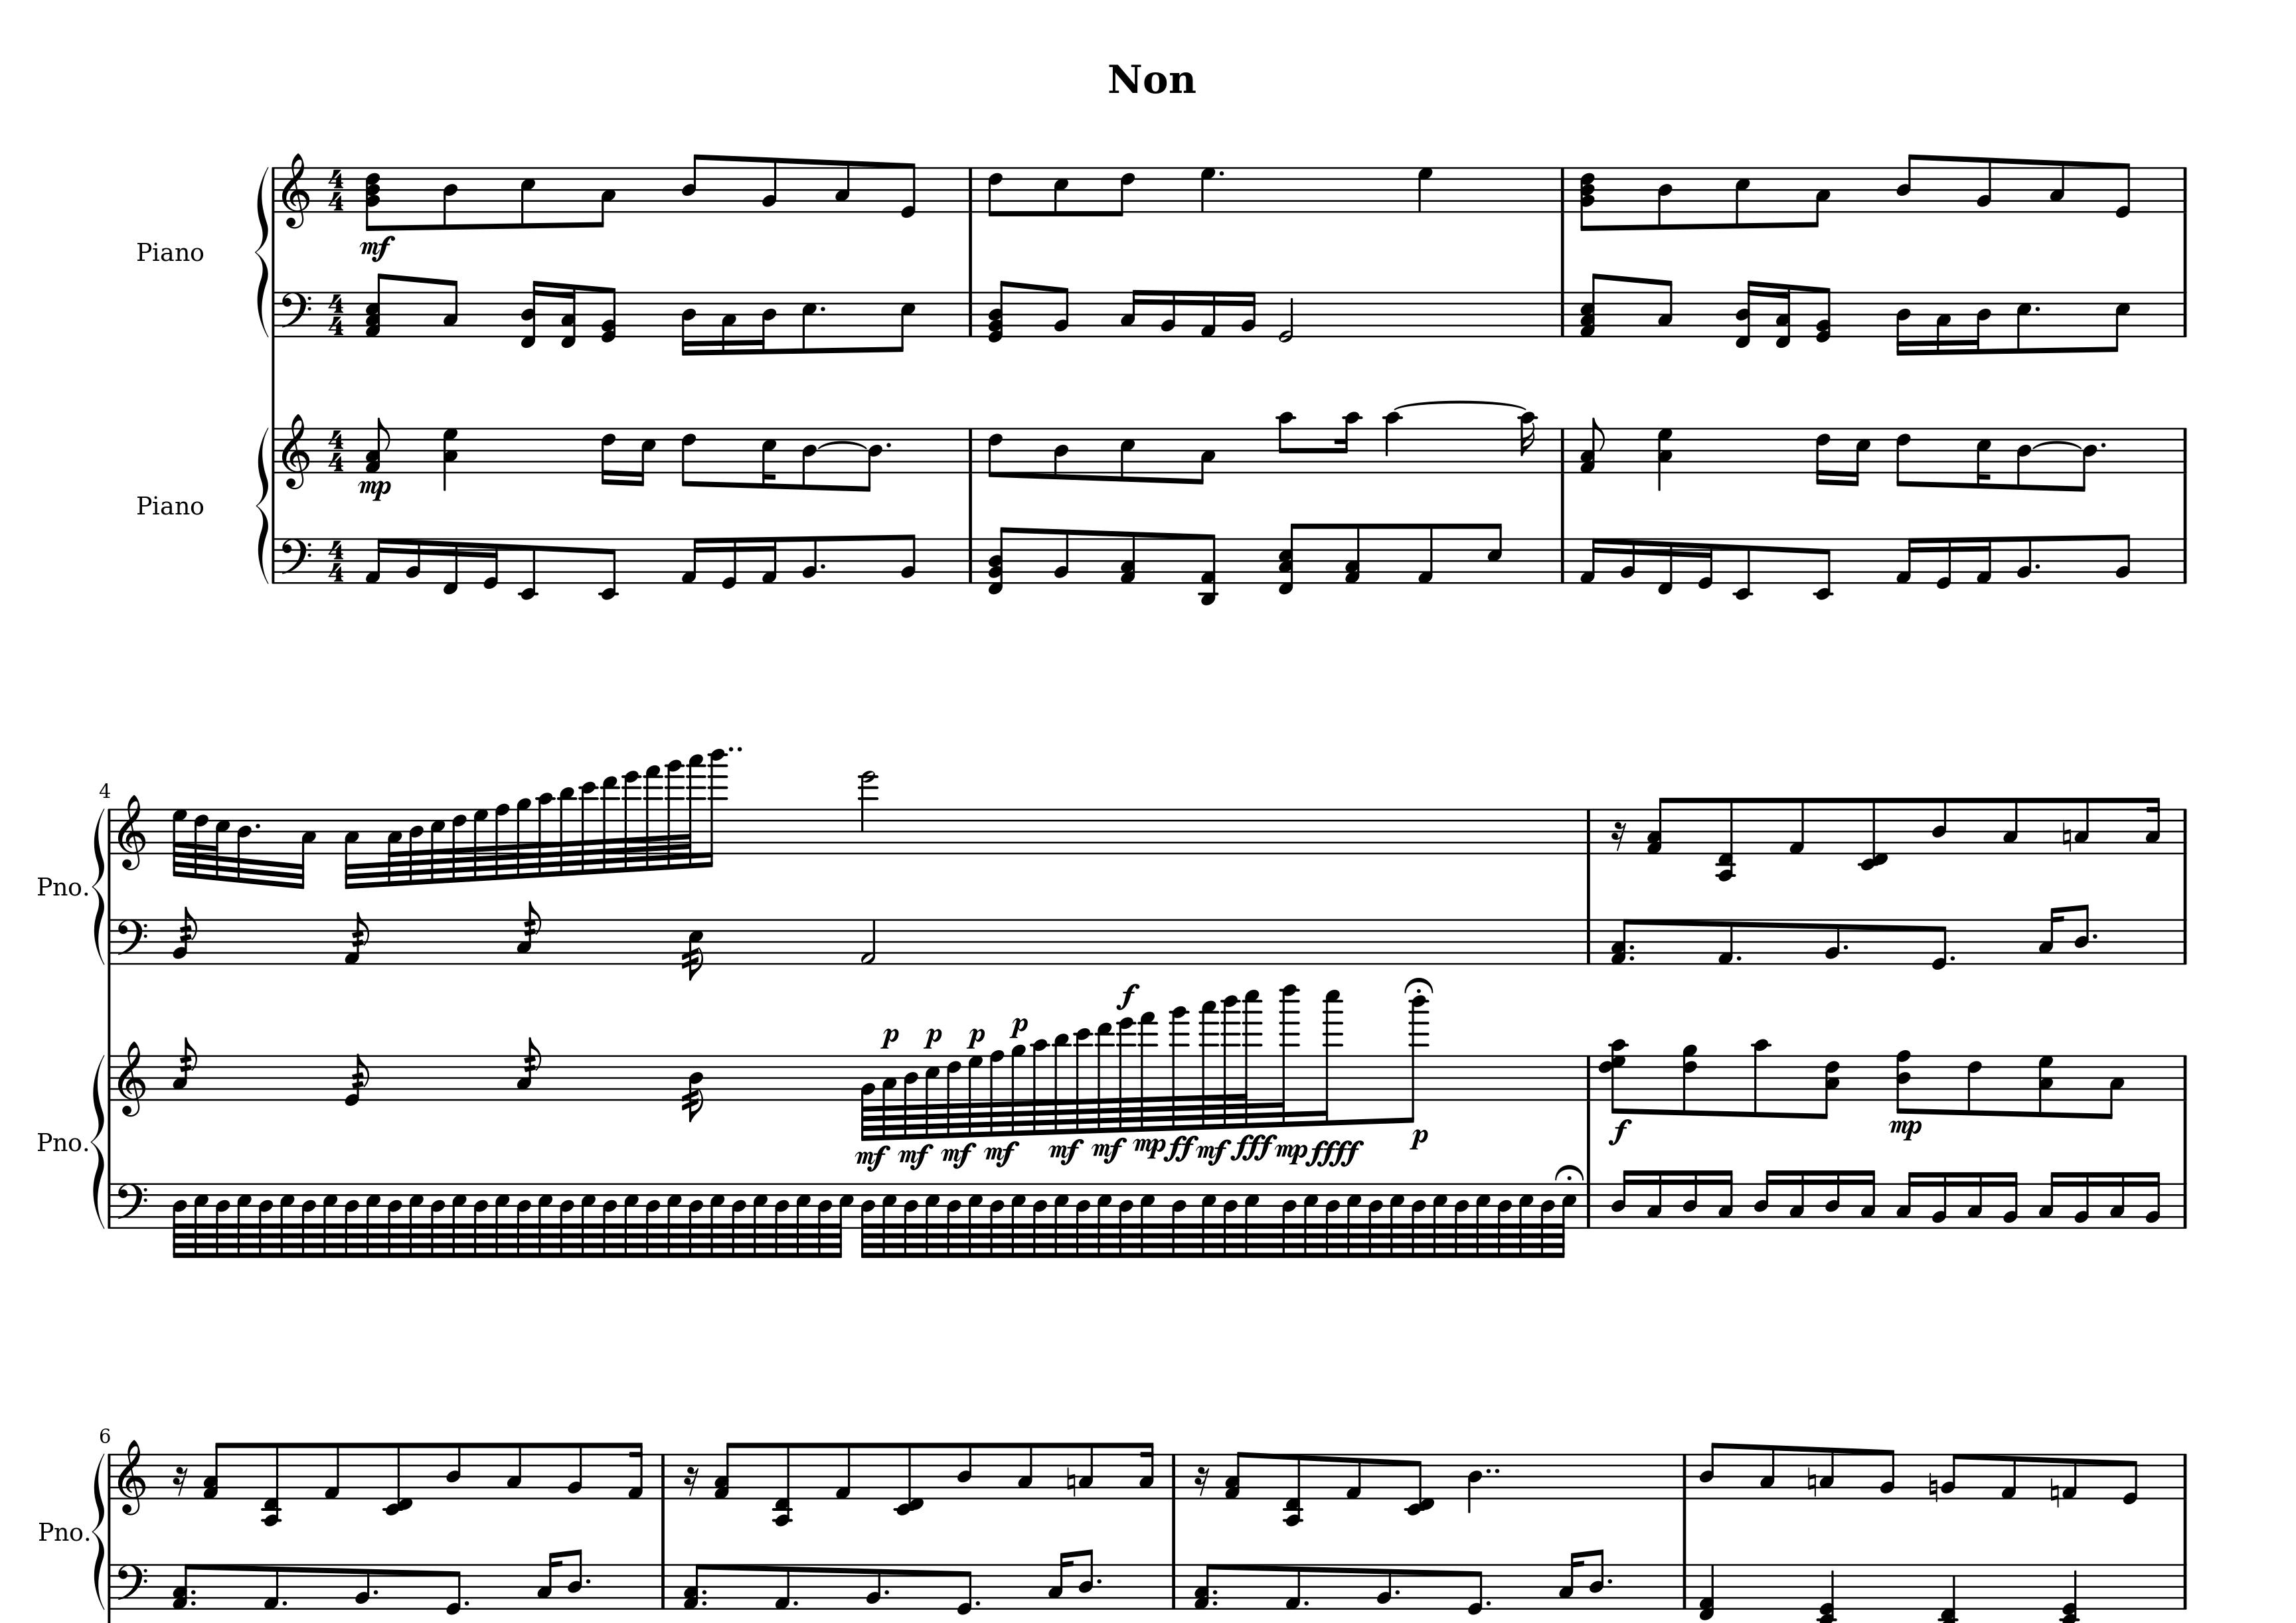16_-1: (441, 536, 460, 595), (1657, 536, 1674, 595)
16_-1_3: (559, 283, 578, 350), (1774, 283, 1792, 350)
16_-1_4: (522, 279, 546, 348), (1736, 279, 1758, 350)
16_0: (483, 536, 501, 590), (720, 536, 738, 590), (1697, 536, 1715, 590), (1936, 536, 1953, 590)
16_1: (680, 536, 703, 585), (1579, 536, 1602, 585), (1895, 536, 1918, 585), (364, 537, 386, 585), (627, 1440, 643, 1500), (1200, 288, 1217, 337), (761, 536, 778, 585), (1976, 536, 1994, 585)
16_10: (1333, 409, 1360, 474), (1518, 411, 1537, 474)
16_18: (704, 748, 729, 868)
16_19: (1323, 989, 1344, 1126)
16_2: (1931, 1170, 1950, 1230), (2073, 1170, 2092, 1230), (2143, 1170, 2162, 1230), (2003, 1170, 2020, 1230), (1159, 288, 1177, 337), (1620, 536, 1637, 585), (1240, 290, 1258, 337), (406, 536, 422, 585)
16_3: (2038, 905, 2064, 964), (536, 1549, 562, 1609), (1047, 1549, 1073, 1609), (1558, 1549, 1583, 1609), (1895, 1170, 1918, 1230), (2038, 1170, 2059, 1230), (1646, 1168, 1665, 1230), (720, 290, 738, 357), (1934, 290, 1952, 357), (1119, 288, 1142, 337), (1716, 1168, 1734, 1230), (1788, 1168, 1806, 1230), (1859, 1168, 1876, 1230), (1966, 1170, 1983, 1230), (2108, 1170, 2126, 1230), (2145, 796, 2162, 854), (1138, 1440, 1154, 1498)
16_4: (757, 290, 778, 357), (1753, 1168, 1776, 1230), (1973, 290, 1994, 355), (1611, 1168, 1632, 1230), (680, 290, 697, 357), (1895, 292, 1913, 357), (1681, 1168, 1699, 1230), (1823, 1168, 1841, 1230)
16_5: (636, 427, 657, 487), (1850, 427, 1871, 487), (1975, 427, 1992, 490), (761, 427, 776, 490)
16_6: (601, 427, 617, 487), (1815, 427, 1830, 487)
2_0: (1277, 288, 1295, 343)
2_1: (859, 919, 877, 968)
32_20: (1279, 982, 1300, 1128)
32_3: (297, 806, 318, 891), (343, 806, 360, 891)
32_4: (237, 806, 253, 887)
4: (327, 537, 348, 560), (327, 560, 348, 581), (327, 167, 346, 190), (327, 292, 346, 314), (327, 427, 346, 450), (327, 190, 346, 211), (327, 314, 346, 335), (327, 450, 346, 471)
4_-1_1: (1697, 1562, 1716, 1619)
4_10: (1383, 411, 1402, 474)
4_14: (857, 768, 878, 854)
4_3_7: (1657, 427, 1676, 492), (443, 427, 458, 492)
4_4: (1467, 1453, 1483, 1514)
4_7: (1416, 165, 1433, 214), (1200, 165, 1217, 213)
6: (98, 1425, 111, 1444)
64_10: (1028, 1038, 1051, 1135), (536, 790, 555, 878)
64_11: (1051, 1033, 1072, 1135), (557, 785, 576, 876)
64_12: (1072, 1028, 1093, 1133), (578, 780, 599, 875)
64_13: (1094, 1022, 1116, 1135), (599, 775, 620, 875)
64_14: (1116, 1015, 1137, 1133), (620, 769, 641, 873)
64_15: (1137, 1012, 1159, 1133), (641, 764, 662, 871)
64_16: (1168, 1005, 1191, 1131), (662, 759, 685, 869)
64_17: (1198, 1001, 1221, 1129), (685, 754, 706, 868)
64_18: (1221, 994, 1240, 1131)
64_19: (1242, 987, 1263, 1129)
64_2: (861, 1054, 877, 1142)
64_3: (882, 1054, 898, 1142), (386, 808, 402, 887)
64_4: (1202, 1184, 1238, 1256), (1170, 1180, 1189, 1259), (729, 1180, 747, 1259), (773, 1180, 791, 1259), (1117, 1180, 1135, 1259), (1221, 1180, 1238, 1259), (1281, 1180, 1298, 1259), (687, 1180, 704, 1258), (859, 1180, 877, 1258), (901, 1180, 919, 1258), (945, 1180, 963, 1258), (987, 1180, 1005, 1258), (1323, 1182, 1340, 1259), (1367, 1182, 1384, 1259), (1409, 1182, 1426, 1259), (1453, 1182, 1470, 1259), (903, 1056, 919, 1140), (515, 1182, 532, 1258), (601, 1182, 618, 1258), (1031, 1182, 1049, 1258), (408, 808, 423, 887), (172, 1180, 188, 1258), (817, 1180, 833, 1258), (1075, 1180, 1091, 1258), (1497, 1182, 1513, 1259), (1539, 1182, 1555, 1259), (214, 1182, 230, 1258), (300, 1182, 316, 1258), (343, 1182, 358, 1258), (386, 1182, 402, 1258), (430, 1182, 446, 1258), (473, 1182, 488, 1258), (559, 1182, 574, 1258), (645, 1182, 661, 1258), (258, 1182, 272, 1258)
64_5: (833, 1180, 854, 1259), (1556, 1180, 1578, 1259), (1200, 1180, 1219, 1259), (1242, 1180, 1261, 1259), (1344, 1180, 1363, 1259), (494, 1180, 511, 1259), (666, 1180, 683, 1259), (752, 1180, 769, 1259), (794, 1180, 812, 1259), (880, 1180, 898, 1259), (924, 1180, 942, 1259), (966, 1180, 984, 1259), (1010, 1180, 1028, 1259), (1052, 1180, 1070, 1259), (1096, 1180, 1114, 1259), (1138, 1180, 1156, 1259), (1302, 1180, 1319, 1259), (1388, 1180, 1405, 1259), (1432, 1180, 1449, 1259), (1474, 1180, 1491, 1259), (1518, 1180, 1535, 1259), (924, 1054, 940, 1140), (408, 1182, 425, 1259), (213, 808, 230, 882), (193, 1180, 209, 1259), (279, 1180, 295, 1259), (624, 1180, 639, 1259), (710, 1180, 726, 1259), (430, 806, 446, 884), (321, 1182, 337, 1259), (365, 1182, 381, 1259), (451, 1182, 467, 1259), (538, 1182, 553, 1259), (580, 1182, 596, 1259), (237, 1180, 251, 1259)
64_6: (945, 1054, 961, 1138), (193, 808, 209, 880), (451, 808, 466, 882)
64_7: (968, 1056, 984, 1138), (473, 808, 488, 882), (172, 808, 188, 878)
64_8: (989, 1049, 1007, 1138), (495, 803, 509, 880)
64_9: (1010, 1043, 1028, 1135), (515, 796, 532, 880)
8_-2: (599, 536, 620, 601), (1732, 536, 1753, 601), (1813, 536, 1834, 601), (518, 536, 538, 601)
8_-2_-1: (891, 1440, 926, 1516), (1857, 796, 1890, 871), (381, 1442, 415, 1516), (1404, 1451, 1435, 1514)
8_-3_1: (1196, 532, 1219, 606)
8_-4_-1: (1715, 796, 1739, 882), (260, 1442, 283, 1526), (773, 1442, 794, 1528), (1282, 1453, 1305, 1526)
8_0: (2112, 160, 2133, 220), (898, 160, 917, 218), (1931, 917, 1950, 970), (2120, 1451, 2138, 1505), (956, 1562, 973, 1616), (1467, 1562, 1484, 1616), (446, 1562, 464, 1614)
8_1: (1416, 522, 1433, 585), (323, 1440, 341, 1500), (1788, 796, 1806, 854), (834, 1440, 852, 1498), (1716, 917, 1736, 964), (1999, 1453, 2018, 1500), (262, 1562, 281, 1609), (773, 1562, 792, 1609), (1284, 1562, 1303, 1609), (1346, 1453, 1363, 1500), (2062, 1451, 2078, 1500)
8_10: (1751, 1036, 1774, 1117), (1275, 411, 1296, 474)
8_18: (1405, 994, 1432, 1122)
8_1_3: (202, 1440, 230, 1500), (365, 416, 392, 474), (1579, 416, 1606, 474), (713, 1442, 740, 1500), (1646, 796, 1671, 855), (169, 1563, 199, 1611), (682, 1563, 706, 1611), (1344, 522, 1361, 585), (1611, 919, 1634, 966), (1193, 1562, 1216, 1609), (1224, 1451, 1245, 1500), (601, 285, 618, 343), (1815, 286, 1832, 343), (1119, 530, 1137, 585)
8_2: (1939, 1451, 1964, 1500), (761, 155, 780, 214), (2112, 532, 2133, 585), (1976, 156, 1994, 214), (567, 1440, 583, 1500), (899, 532, 917, 585), (1054, 527, 1070, 585), (353, 1562, 372, 1609), (2017, 534, 2034, 585), (1825, 917, 1843, 966), (864, 1562, 882, 1611), (1054, 285, 1070, 337), (1880, 1447, 1895, 1500), (803, 534, 819, 585), (1377, 1562, 1393, 1611)
8_3: (2101, 1052, 2126, 1121), (594, 163, 618, 228), (1809, 163, 1832, 228), (1193, 425, 1216, 485), (504, 1440, 523, 1500), (1077, 1440, 1096, 1500), (2073, 796, 2092, 854), (2048, 158, 2068, 214), (1657, 278, 1674, 337), (1017, 1440, 1035, 1500), (2003, 796, 2020, 854), (834, 158, 852, 214), (1758, 1444, 1776, 1500), (443, 278, 458, 337), (1818, 1446, 1836, 1498)
8_3_6: (1820, 1054, 1841, 1121)
8_3_7: (2038, 1054, 2057, 1119)
8_4: (680, 151, 704, 214), (859, 427, 882, 492), (1895, 151, 1918, 214), (2076, 425, 2097, 494), (1657, 165, 1676, 232), (1699, 1440, 1720, 1500), (2015, 427, 2032, 492), (1931, 796, 1950, 854), (443, 165, 458, 232), (444, 1440, 462, 1500), (956, 1440, 973, 1500), (801, 427, 817, 492), (2075, 903, 2090, 964), (567, 1547, 583, 1609), (1079, 1547, 1094, 1609), (1590, 1547, 1606, 1609), (1052, 427, 1070, 480)
8_4_8: (1895, 1049, 1913, 1115)
8_5: (892, 290, 917, 353), (2015, 292, 2040, 355), (2108, 290, 2133, 353), (1734, 165, 1751, 230), (801, 290, 819, 355), (1486, 520, 1504, 585), (520, 165, 536, 230), (1052, 165, 1070, 218), (1119, 427, 1135, 483)
8_6: (1895, 425, 1915, 488), (1112, 165, 1135, 218), (680, 427, 699, 488), (1966, 1052, 1983, 1117), (987, 165, 1003, 218), (987, 425, 1003, 478)
8_6_9: (1681, 1043, 1700, 1117)
8_th: (1599, 1038, 1630, 1117), (1579, 272, 1604, 339), (987, 527, 1012, 592), (1279, 522, 1300, 594), (365, 272, 388, 337), (987, 279, 1010, 343), (364, 167, 381, 232), (1578, 167, 1595, 232)
Brace: (253, 162, 271, 341), (90, 1054, 105, 1230), (255, 427, 271, 583), (91, 1449, 105, 1612), (91, 808, 105, 964)
Double_dot: (727, 745, 743, 754), (1484, 1465, 1500, 1474)
Fclef: (116, 1562, 151, 1609), (279, 290, 313, 339), (279, 536, 313, 585), (116, 917, 149, 964), (116, 1182, 148, 1230)
Fermata_above: (1404, 973, 1435, 996), (1553, 1161, 1585, 1182)
Gclef: (281, 411, 311, 490), (281, 151, 311, 228), (118, 1439, 148, 1516), (118, 792, 146, 869), (118, 1040, 146, 1117)
Natural: (2061, 820, 2073, 854), (1065, 1465, 1077, 1498), (1927, 1470, 1939, 1504), (2048, 1474, 2061, 1507), (1806, 1465, 1816, 1498)
Pno: (134, 239, 207, 263), (134, 494, 204, 516), (39, 1519, 83, 1546), (35, 1129, 81, 1154), (35, 875, 83, 898)
Rests16: (682, 1465, 701, 1497), (170, 1463, 188, 1497), (1193, 1465, 1210, 1497), (1611, 819, 1627, 852)
Single_barline: (172, 905, 199, 963), (2177, 165, 2192, 213), (655, 1562, 671, 1609), (1556, 427, 1572, 472), (1555, 537, 1570, 583), (1581, 808, 1597, 854), (1581, 919, 1597, 964), (2177, 919, 2192, 964), (2177, 1182, 2192, 1228), (655, 1453, 671, 1498), (1581, 1056, 1597, 1100), (2177, 1056, 2192, 1100), (2177, 537, 2191, 583), (2177, 808, 2191, 854), (104, 808, 118, 854), (1166, 1453, 1180, 1498), (2177, 1453, 2191, 1498), (1166, 1563, 1180, 1609), (1678, 1563, 1692, 1609), (2177, 1563, 2191, 1609), (2177, 292, 2191, 335), (2177, 427, 2191, 471), (1678, 1454, 1692, 1498), (269, 165, 281, 213), (269, 292, 281, 337), (269, 427, 281, 472), (269, 537, 281, 583), (104, 919, 116, 964), (104, 1054, 116, 1100), (104, 1453, 116, 1498), (1583, 1182, 1595, 1226), (105, 1182, 116, 1228), (105, 1563, 116, 1607), (253, 820, 262, 831)
Slur: (1390, 399, 1528, 411), (963, 165, 982, 213), (963, 537, 980, 583), (963, 427, 980, 471), (963, 292, 978, 337), (1556, 167, 1570, 213), (819, 439, 864, 448)
TimeSig: (327, 292, 348, 339), (327, 167, 346, 213), (327, 427, 346, 472), (327, 537, 346, 583)
dot: (1841, 940, 1852, 954), (1734, 952, 1744, 964), (583, 1574, 594, 1586), (882, 1586, 892, 1598), (791, 1597, 801, 1609), (1483, 1597, 1493, 1609), (1393, 1584, 1402, 1598), (1627, 941, 1637, 952), (1627, 952, 1637, 963), (1094, 1576, 1105, 1586), (371, 1586, 381, 1597), (699, 1586, 710, 1597), (1948, 952, 1957, 964), (462, 1597, 471, 1609), (973, 1597, 982, 1609), (1302, 1597, 1310, 1609), (1216, 169, 1226, 177), (1210, 1597, 1219, 1607), (819, 304, 827, 313), (884, 439, 892, 448), (819, 562, 827, 571), (2090, 931, 2099, 940), (1606, 1576, 1614, 1584), (1210, 1588, 1219, 1597), (699, 1598, 708, 1607), (281, 1597, 288, 1607), (2099, 441, 2108, 448), (190, 1588, 197, 1597), (190, 1598, 197, 1605)
f: (1606, 1117, 1635, 1147), (1114, 980, 1142, 1012)
ff: (1165, 1131, 1196, 1163)
fff: (1230, 1129, 1277, 1163)
ffff: (1307, 1136, 1365, 1170)
mf: (852, 1142, 891, 1173), (982, 1138, 1021, 1170), (1091, 1135, 1126, 1166), (896, 1142, 933, 1172), (940, 1140, 977, 1170), (1047, 1136, 1084, 1166), (360, 234, 395, 263), (1196, 1136, 1231, 1166)
mp: (1885, 1115, 1924, 1142), (1131, 1135, 1166, 1161), (1275, 1140, 1309, 1166), (357, 478, 392, 501)
p: (1407, 1126, 1433, 1152), (1007, 1013, 1031, 1038), (878, 1024, 901, 1050), (922, 1024, 943, 1049), (966, 1024, 987, 1049)
